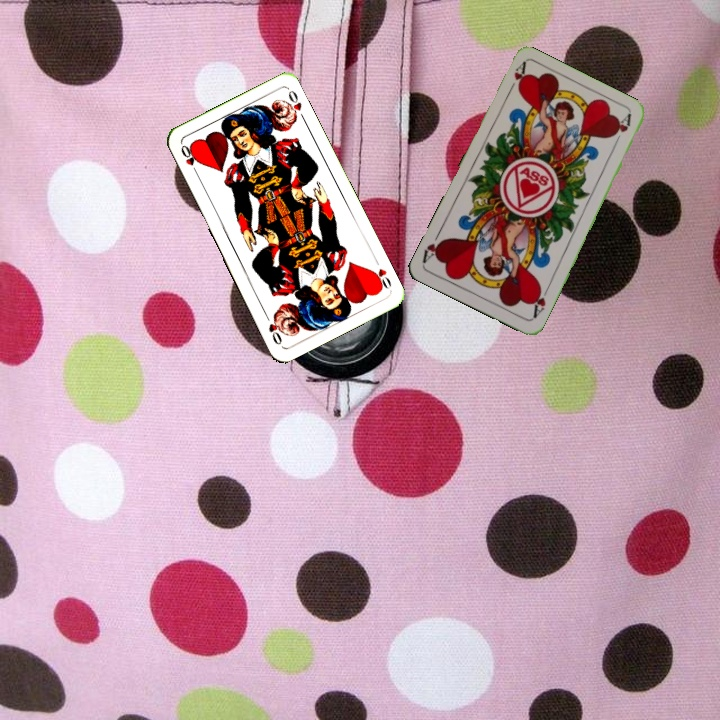HA: (503, 59, 529, 97), (528, 282, 551, 321)
HO: (367, 254, 394, 292), (177, 141, 201, 178)
